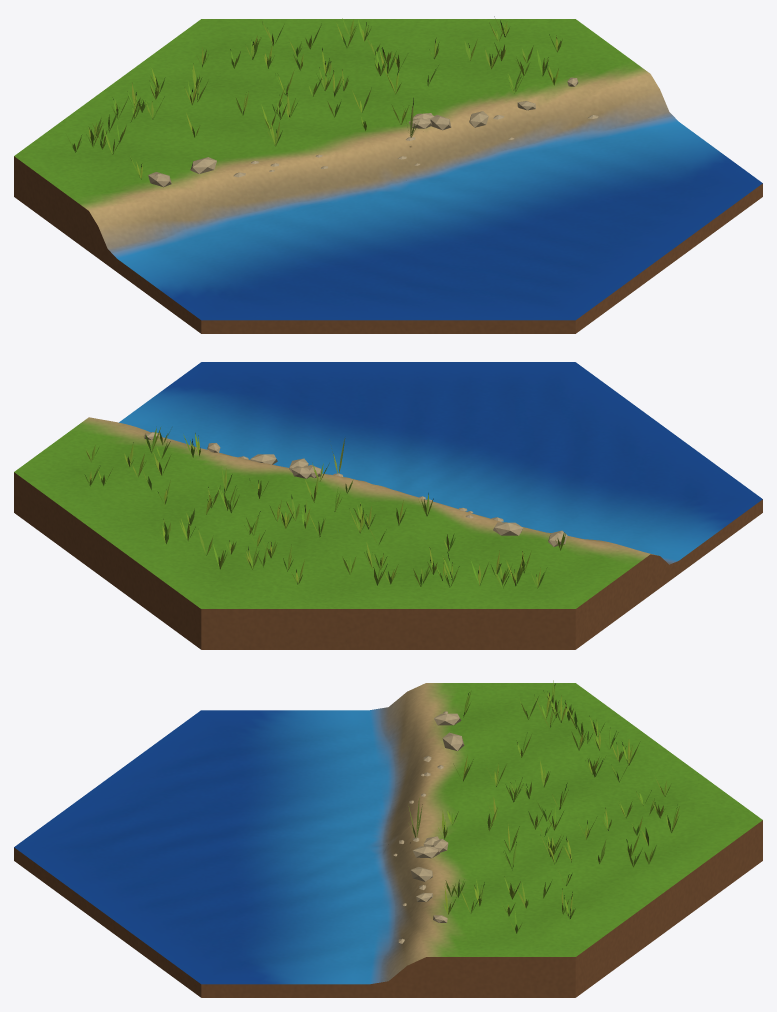
The model's file is SM_Agua_CostaRecta_Detalle_LOD0.fbx.
The picture shows the model from 3 angles, top to bottom: view 1: azimuth 30°, elevation 25°; view 2: azimuth 150°, elevation 25°; view 3: azimuth 270°, elevation 25°; orthographic projection.
Visible parts, largest first — view 1: SM_Agua_CostaRecta_Detalle_LOD0; view 2: SM_Agua_CostaRecta_Detalle_LOD0; view 3: SM_Agua_CostaRecta_Detalle_LOD0.
Part boxes in pixels (box(x1,y1,x2,y2)): SM_Agua_CostaRecta_Detalle_LOD0: box(14, 16, 762, 333); SM_Agua_CostaRecta_Detalle_LOD0: box(14, 362, 762, 649); SM_Agua_CostaRecta_Detalle_LOD0: box(14, 680, 762, 997).
Bounding box in the file's own units: 1.73 × 0.2355 × 2.
1 material, 1 textured.
